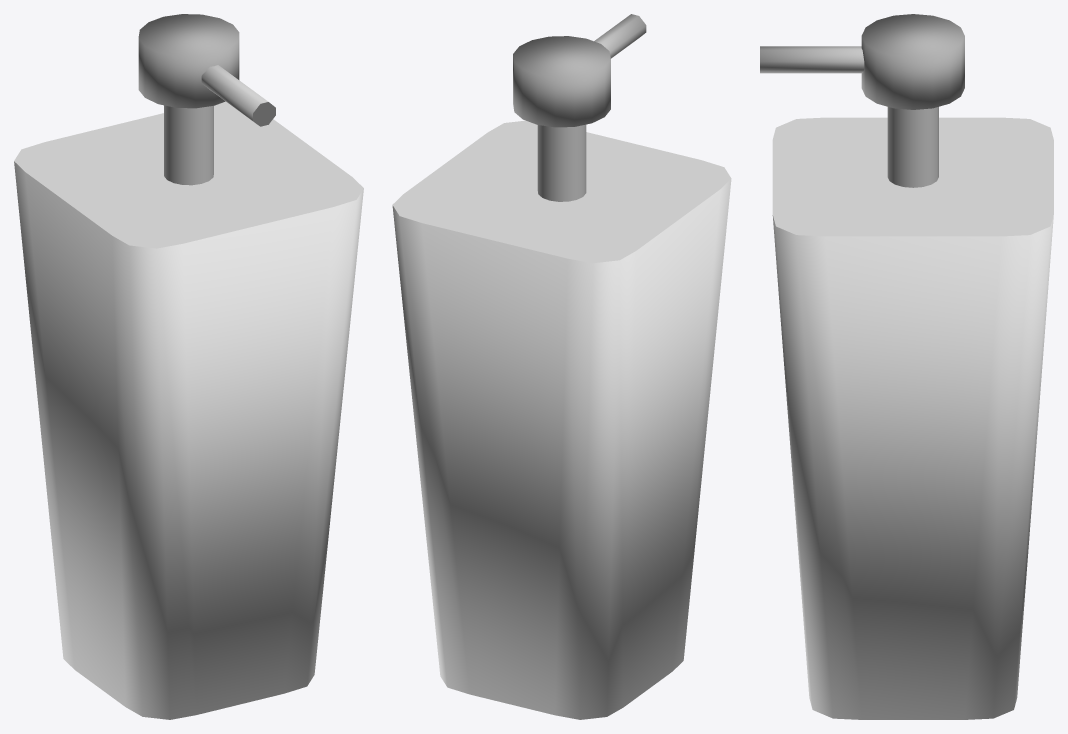
File: soap_dispenser.glb
3 renders of one model, left to right at view 1: azimuth 30°, elevation 25°; view 2: azimuth 150°, elevation 25°; view 3: azimuth 270°, elevation 25°, orthographic. The views are drawn at different scales.
Visible parts, largest first — view 1: Soap Dispenser Base, Soap Dispenser Acc; view 2: Soap Dispenser Base, Soap Dispenser Acc; view 3: Soap Dispenser Base, Soap Dispenser Acc.
Boxes of the visible parts, x1,y1,x2,y2 form: Soap Dispenser Base: [14, 101, 363, 719]; Soap Dispenser Acc: [138, 14, 275, 185]; Soap Dispenser Base: [392, 120, 731, 719]; Soap Dispenser Acc: [513, 14, 646, 201]; Soap Dispenser Base: [772, 117, 1053, 719]; Soap Dispenser Acc: [760, 14, 964, 187].
Bounding box in the file's own units: 0.0845 × 0.2121 × 0.0882.
2 materials, 2 textured.
